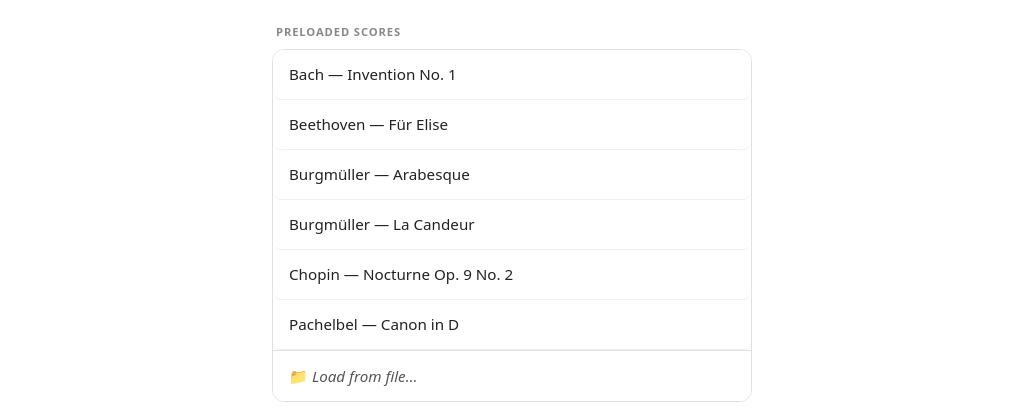
Test: PlayScorePlugin — US1: Selection screen and Back button › Back button is present when screen === "player"
Click the button "Bach — Invention No. 1".
click(373, 74)  # box 273,50 -> 751,100
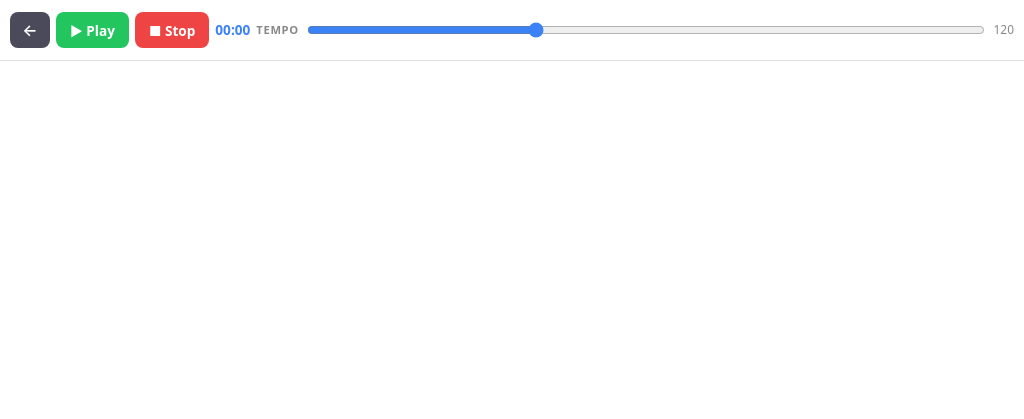
expect the button named "back" is shown: met, box 10,12 -> 50,48
